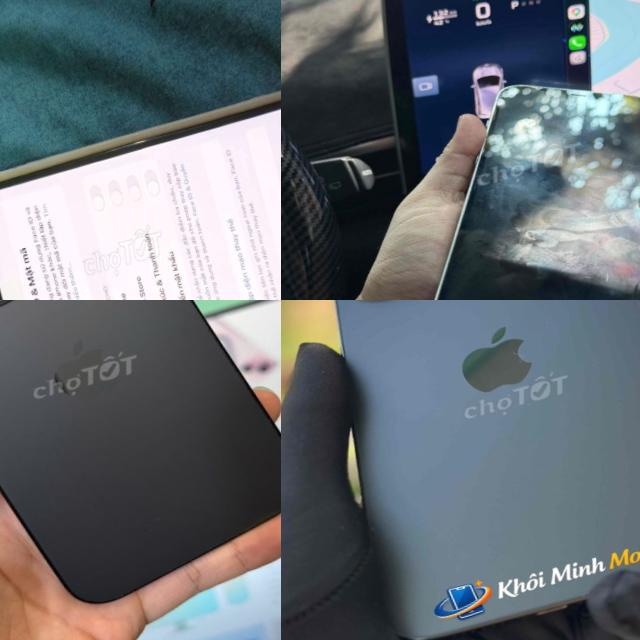gen_12_13: (370, 48, 640, 300)
gen_14: (281, 300, 640, 640), (0, 300, 281, 640)
gen_x_xs: (0, 80, 281, 300)
